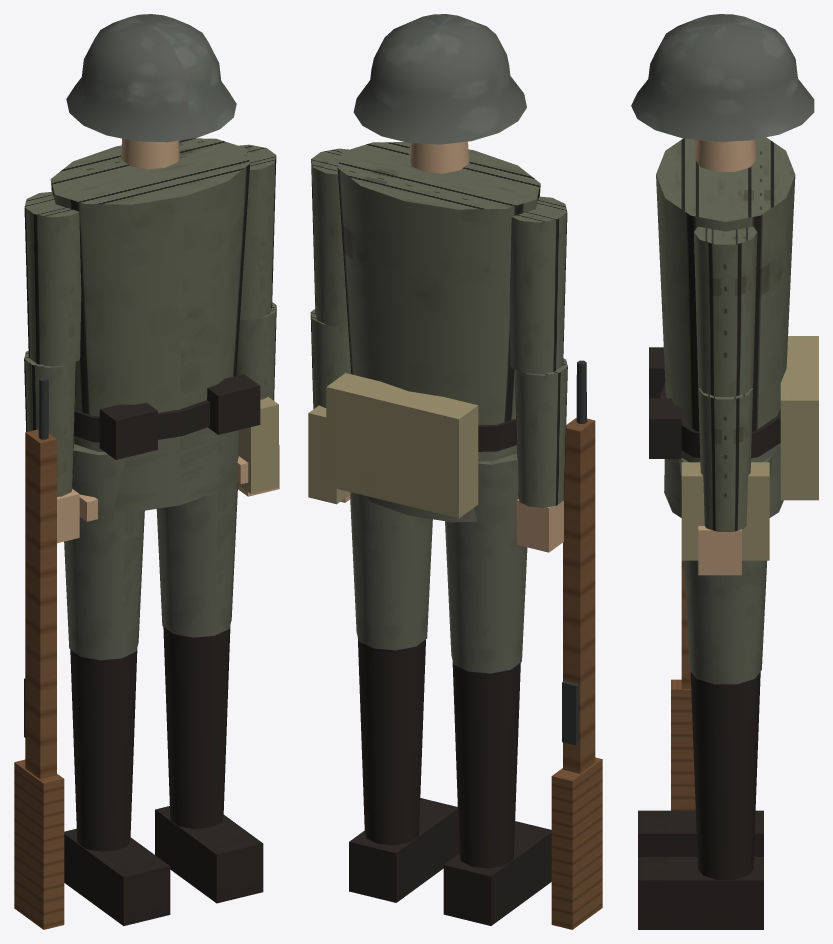
File: infantry-1.glb
3 renders of one model, left to right at view 1: azimuth 30°, elevation 25°; view 2: azimuth 150°, elevation 25°; view 3: azimuth 270°, elevation 25°, orthographic. The views are drawn at different scales.
Parts seen in each view (by area): view 1: body, rifle, shin_left, shin_right, head, leg_right, leg_left, arm_right, forearm_right, arm_left, forearm_left; view 2: body, rifle, shin_left, shin_right, head, leg_right, leg_left, arm_right, forearm_right, arm_left, forearm_left; view 3: body, shin_left, head, arm_left, leg_left, forearm_left, rifle, shin_right.
Part boxes in pixels (x1,y1,x2,y2): body: (50, 138, 278, 511); rifle: (14, 377, 64, 929); shin_left: (155, 626, 263, 903); shin_right: (64, 648, 170, 925); head: (66, 14, 236, 169); leg_right: (64, 444, 144, 660); leg_left: (156, 430, 239, 637); arm_right: (24, 192, 81, 366); forearm_right: (24, 350, 97, 543); arm_left: (239, 144, 276, 319); forearm_left: (236, 302, 279, 496); body: (308, 142, 540, 522); rifle: (551, 360, 602, 929); shin_left: (349, 637, 459, 902); shin_right: (443, 661, 551, 925); head: (353, 14, 526, 173); leg_right: (445, 453, 527, 673); leg_left: (350, 492, 432, 650); arm_right: (509, 196, 567, 374); forearm_right: (515, 358, 567, 552); arm_left: (311, 148, 348, 326); forearm_left: (310, 309, 351, 502); body: (649, 137, 818, 560); shin_left: (638, 672, 763, 929); head: (631, 14, 814, 171); arm_left: (694, 226, 757, 396); leg_left: (679, 456, 772, 684); forearm_left: (698, 387, 752, 575); rifle: (671, 560, 695, 810); shin_right: (638, 810, 763, 856).
Size of the model in its own units: 0.5496 by 1.75 by 0.3425.
Materials: 7 (7 with a texture image).
